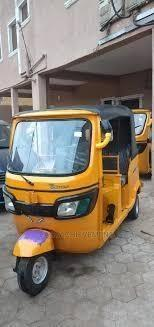keke: (5, 103, 146, 300)
